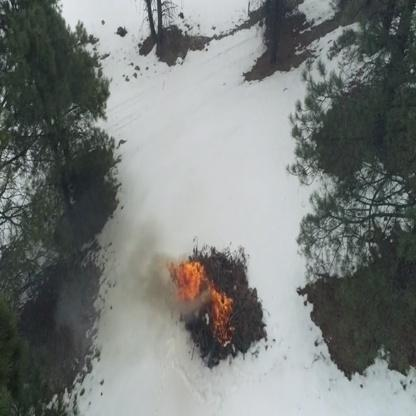Fire: (209, 286, 231, 343), (177, 260, 206, 298)
